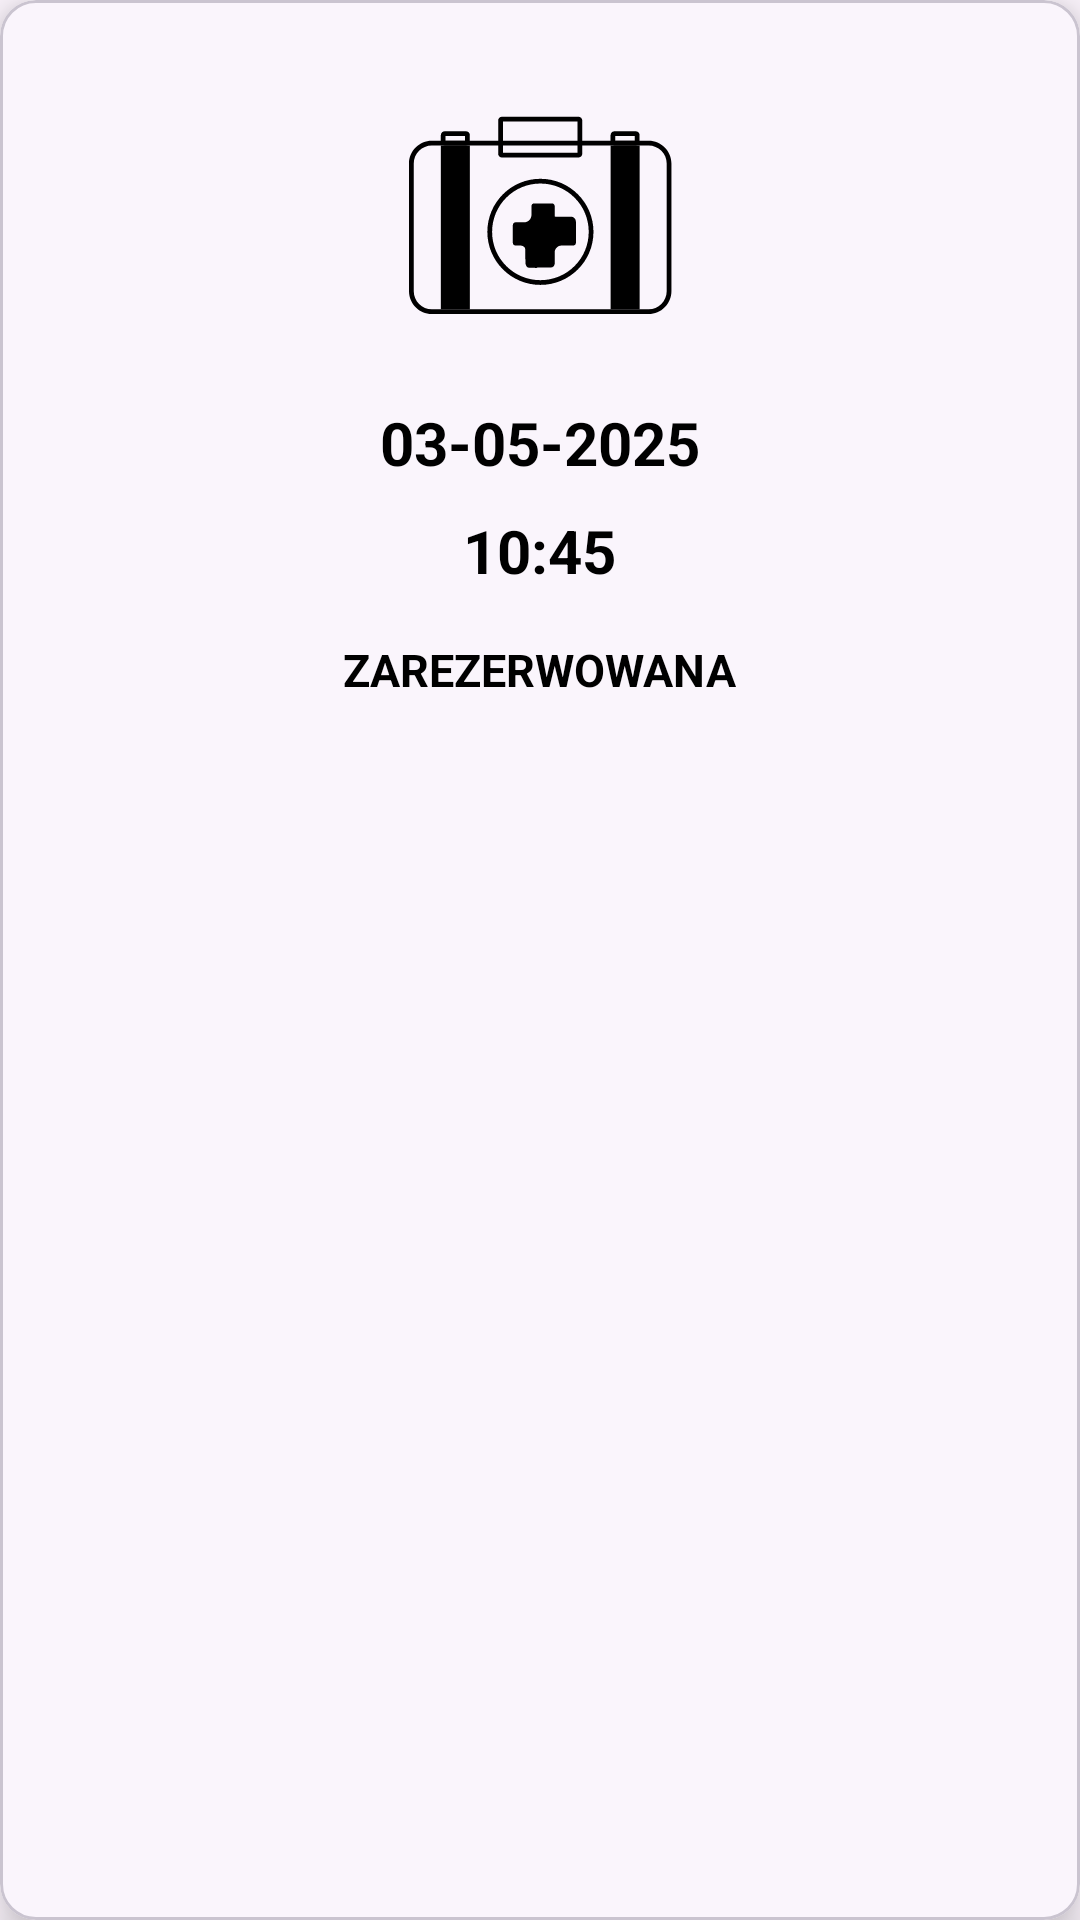

Screen size 1080px x 1920px. Icon name, then its box in pixels as (x1, y1, x2, y2):
medicine chest: (409, 116, 672, 314)
